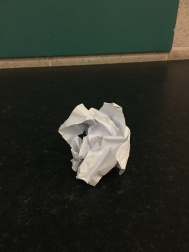paper_white: (50, 89, 142, 195)
